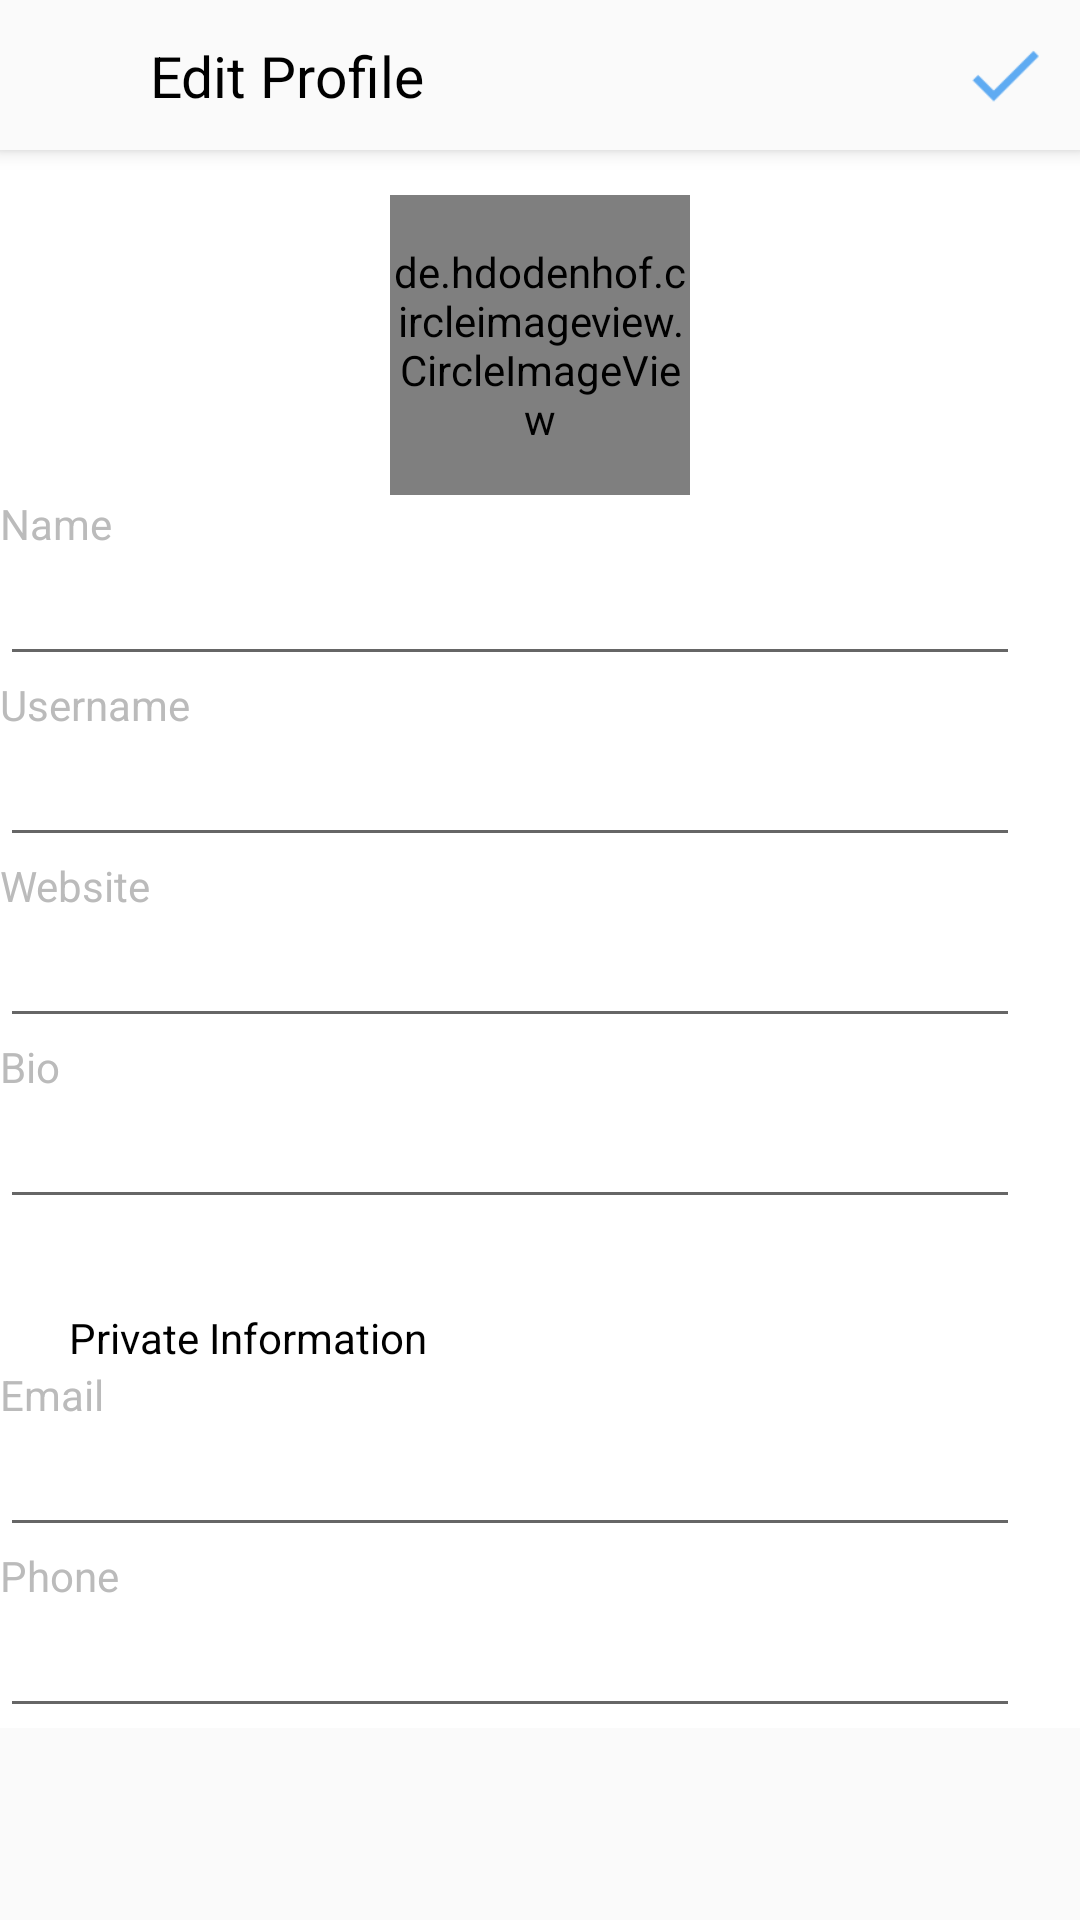

Icons on this 1080px×1920px Android screen, each with its box as detection(x1, y1, x2, y2):
check: detection(972, 51, 1039, 102)
